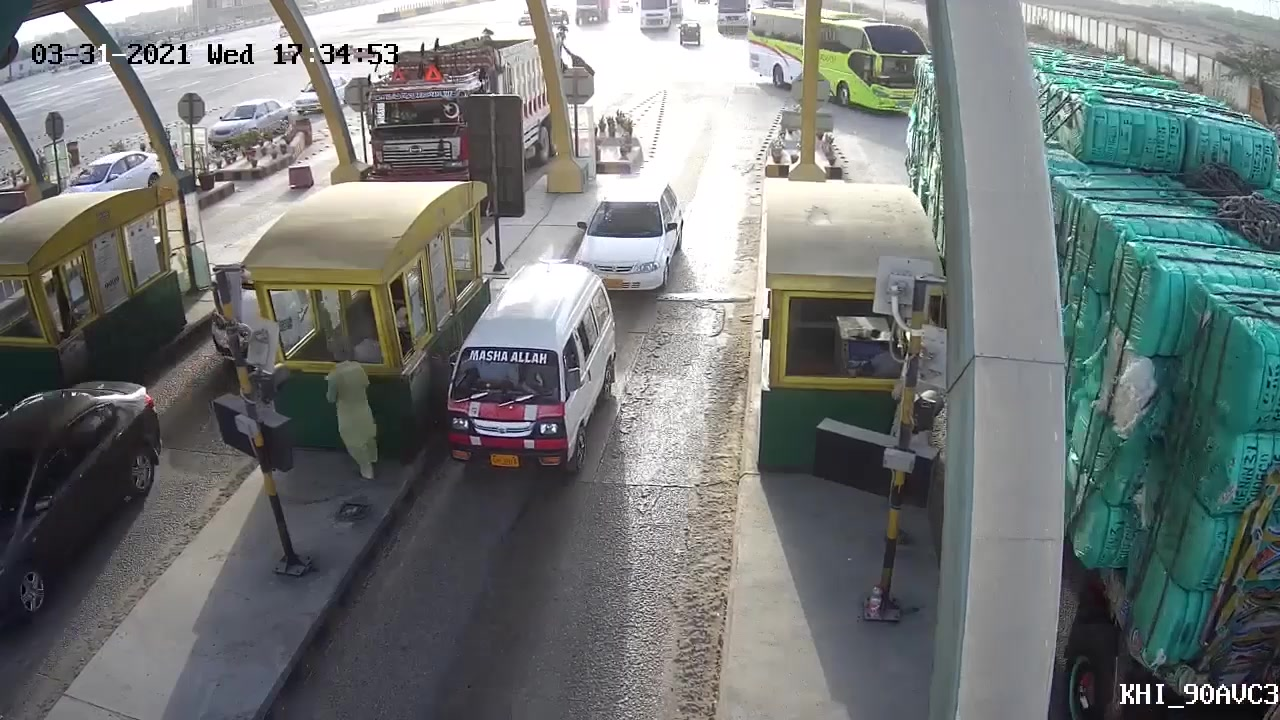F1: (443, 262, 616, 481)
